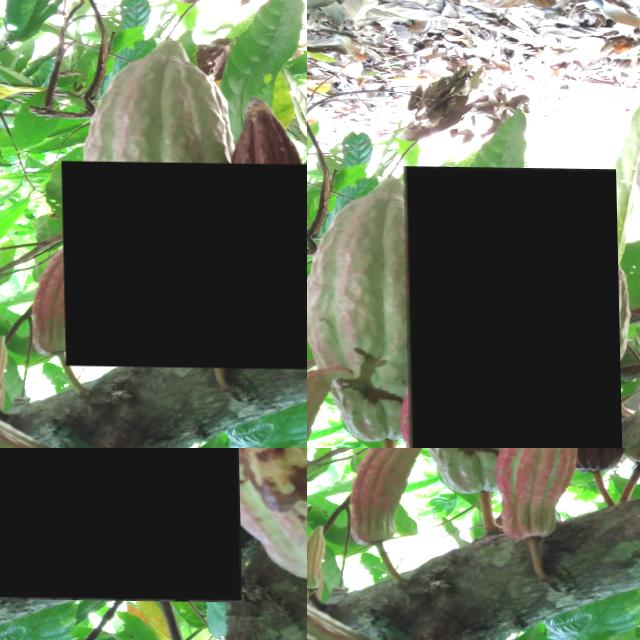Fitoftora: (402, 165, 620, 448), (0, 448, 239, 600)
Monilia: (60, 160, 307, 369)
Sana: (346, 448, 426, 547), (509, 448, 572, 535), (307, 529, 325, 587)
